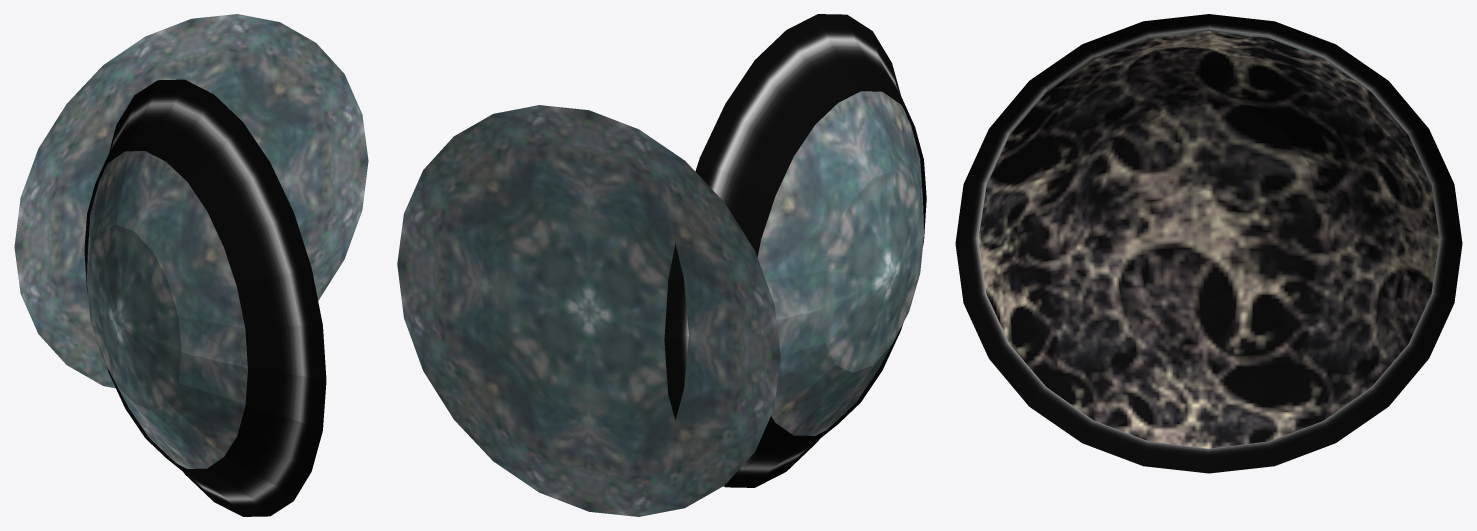
3 renders of one model, left to right at view 1: azimuth 30°, elevation 25°; view 2: azimuth 150°, elevation 25°; view 3: azimuth 270°, elevation 25°, orthographic. The views are drawn at different scales.
Parts seen in each view (by area): view 1: M_1004_1; view 2: M_1004_1; view 3: M_1004_0, M_1004_1.
Part boxes in pixels (x1,y1,x2,y2): M_1004_1: [14, 14, 368, 516]; M_1004_1: [397, 14, 926, 516]; M_1004_0: [978, 31, 1439, 448]; M_1004_1: [955, 14, 1462, 473].
Bounding box in the file's own units: 3.6 × 3.96 × 3.96.
2 materials, 2 textured.
